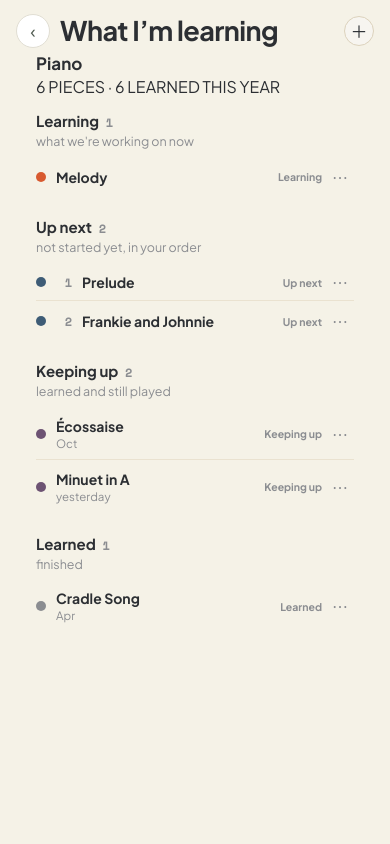
Test case: the ⋯ menu — standing changes and Up next reorder › Move up is disabled on the first Up next row — no out-of-range write
This screenshot has width=390, height=844.
Step 1. Click the button named "Move Prelude" → (340, 282), box [326,270,354,294]
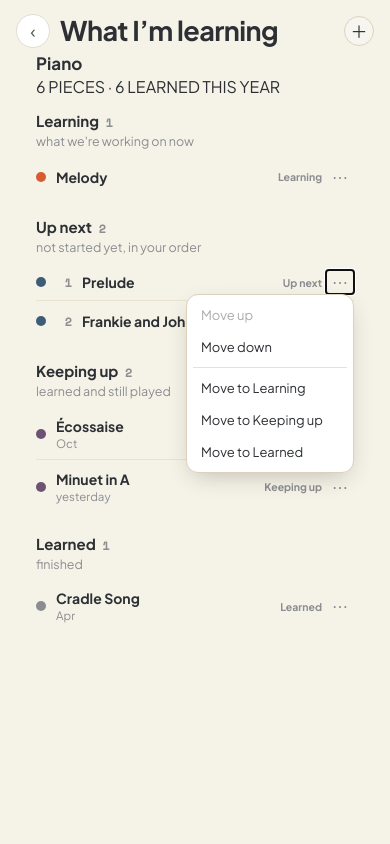
Check: the menu item "Move up" is disabled, box [191,299,349,331]
